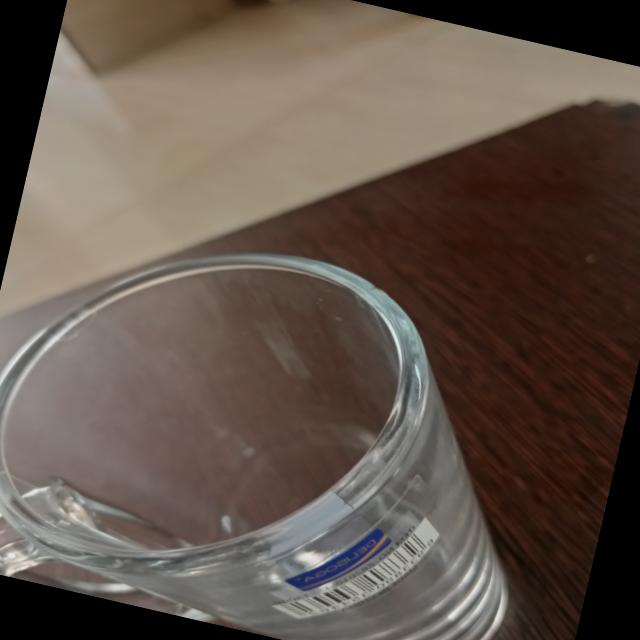glass-VX4N: (0, 189, 577, 640)
